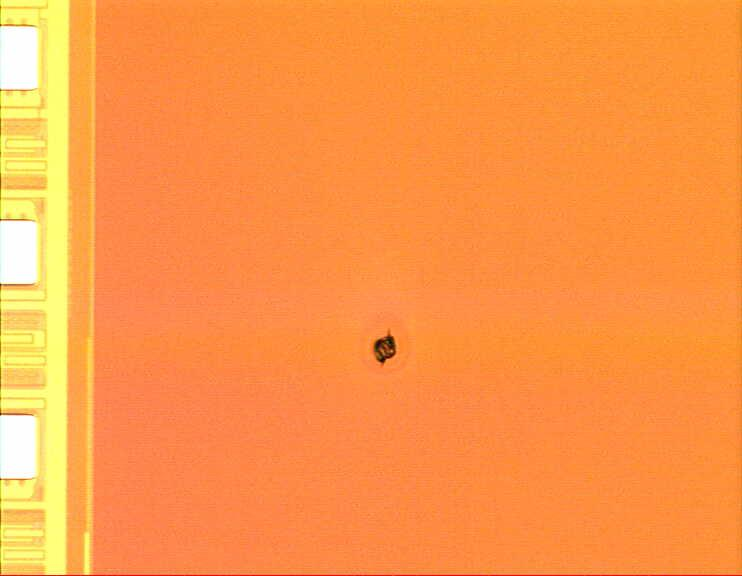PIQ PARTICLE: (364, 327, 408, 371)
